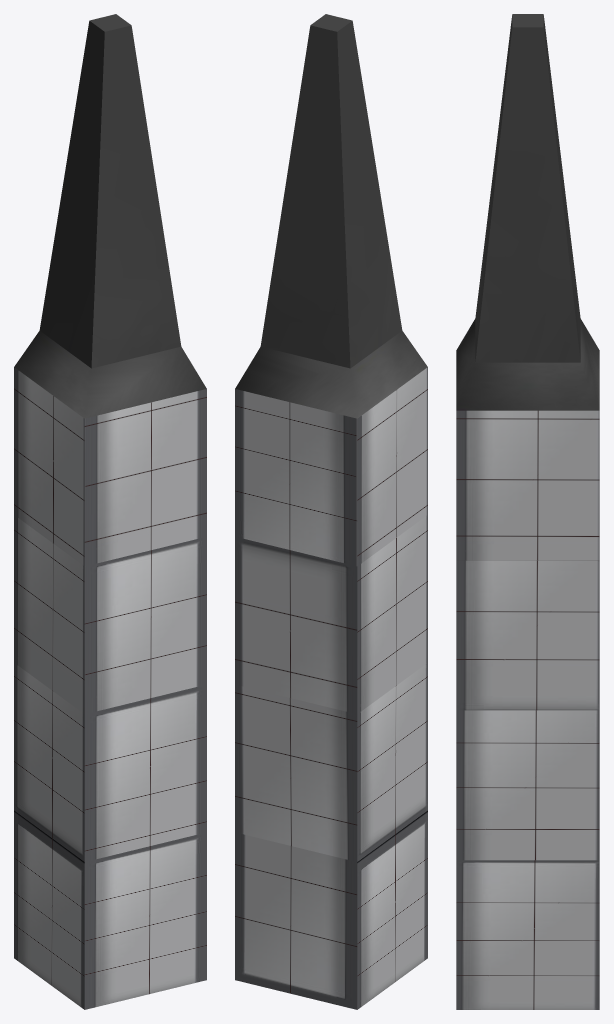
File: SkycraperDarkGlass.FBX
3 renders of one model, left to right at view 1: azimuth 30°, elevation 25°; view 2: azimuth 150°, elevation 25°; view 3: azimuth 270°, elevation 25°, orthographic.
Parts seen in each view (by area): view 1: SkyscraperGlass1; view 2: SkyscraperGlass1; view 3: SkyscraperGlass1.
Part boxes in pixels (x1=…): SkyscraperGlass1: x1=14, y1=14, x2=206, y2=1009; SkyscraperGlass1: x1=235, y1=14, x2=427, y2=1009; SkyscraperGlass1: x1=456, y1=14, x2=599, y2=1009.
Size of the model in its own units: 65.6 by 485 by 65.6.
1 material, 1 textured.
